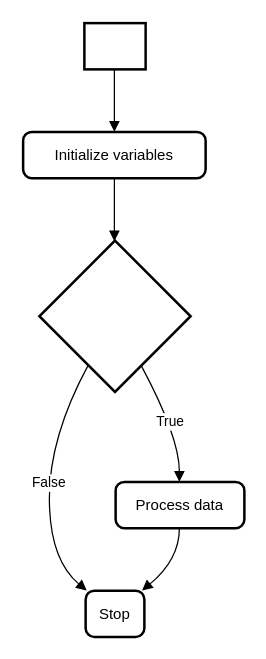
This 266x659 diagram has some shape labels left out. The box of each missing label's shape, as (x1, y1, x2, y2) in pixels:
Condition: (38, 239, 191, 392)
Start: (82, 21, 146, 70)
